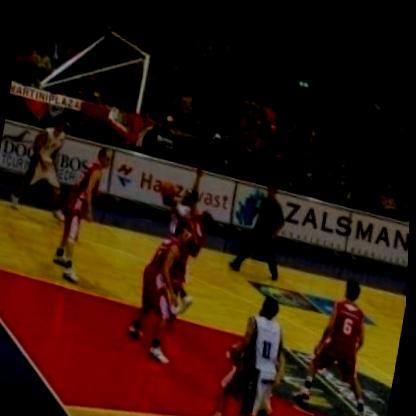basketball: (158, 167, 182, 195)
